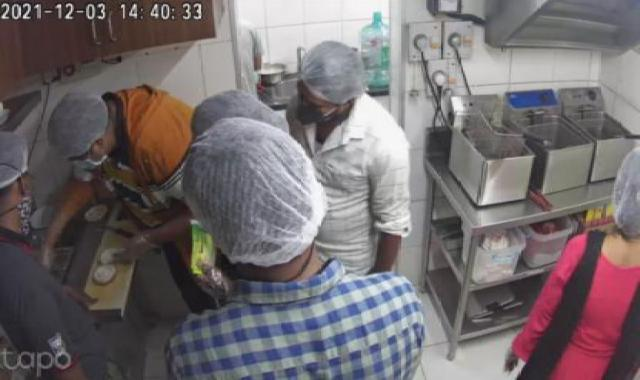hairnet: (192, 121, 328, 269), (278, 37, 378, 107), (192, 90, 298, 146), (44, 89, 109, 163), (600, 135, 640, 243)
